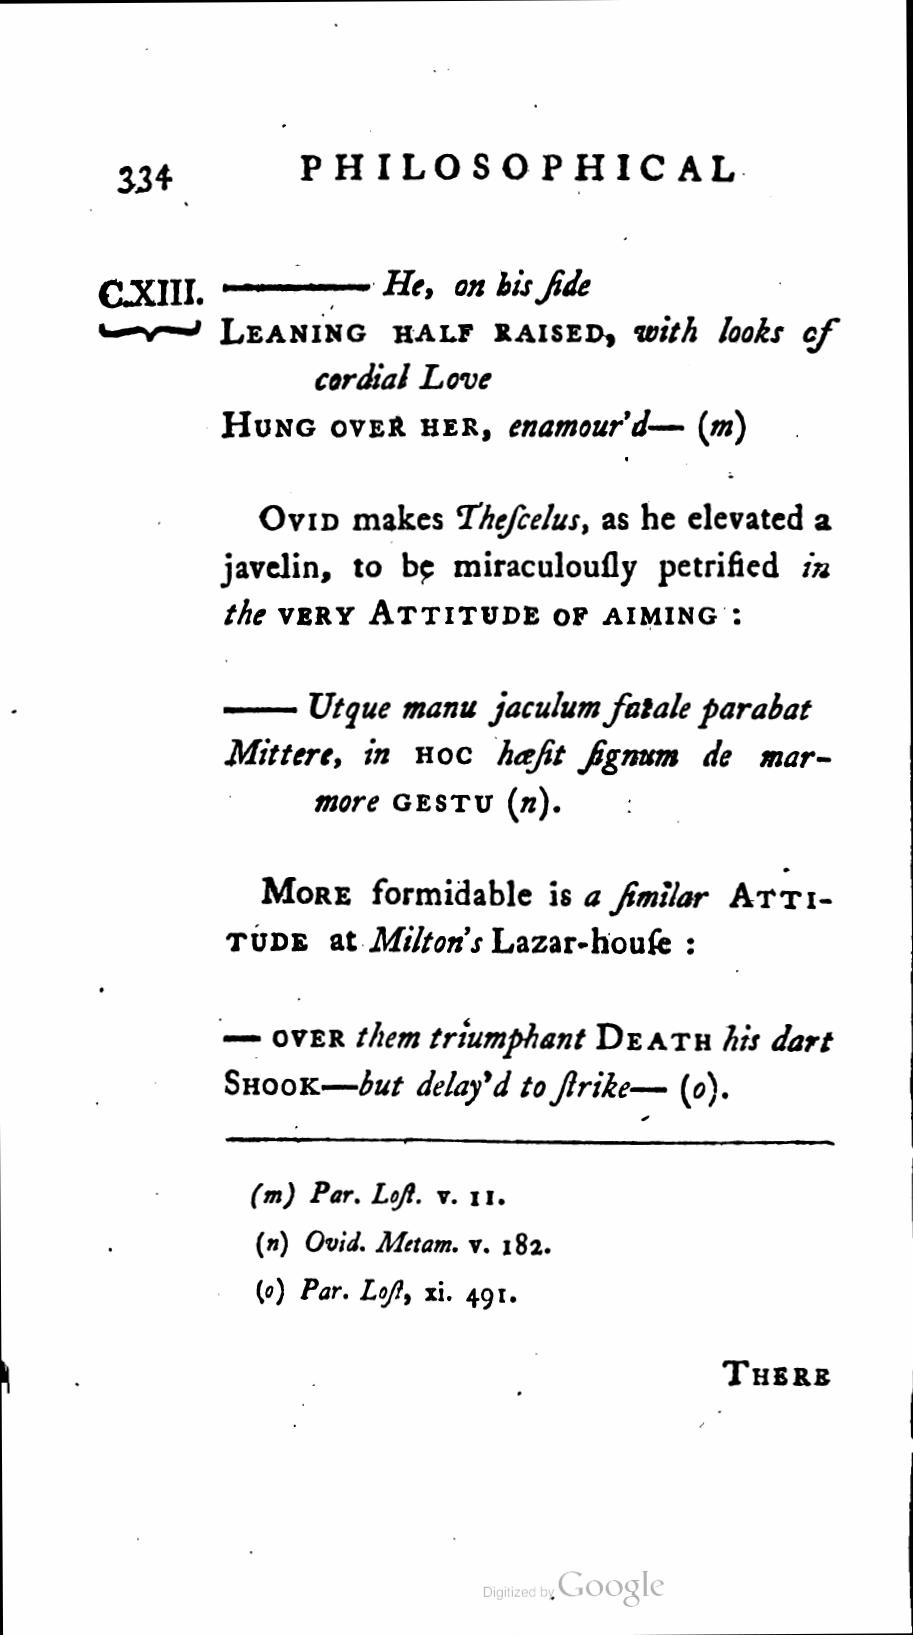catchword: (720, 1344, 838, 1396)
footnotes: (247, 1168, 558, 1318)
full_p: (217, 268, 851, 457), (213, 681, 832, 822), (217, 494, 841, 633), (220, 867, 841, 967), (217, 1014, 843, 1113), (296, 144, 739, 190)
page_num: (113, 161, 180, 201)
print_marg: (97, 267, 198, 313)
